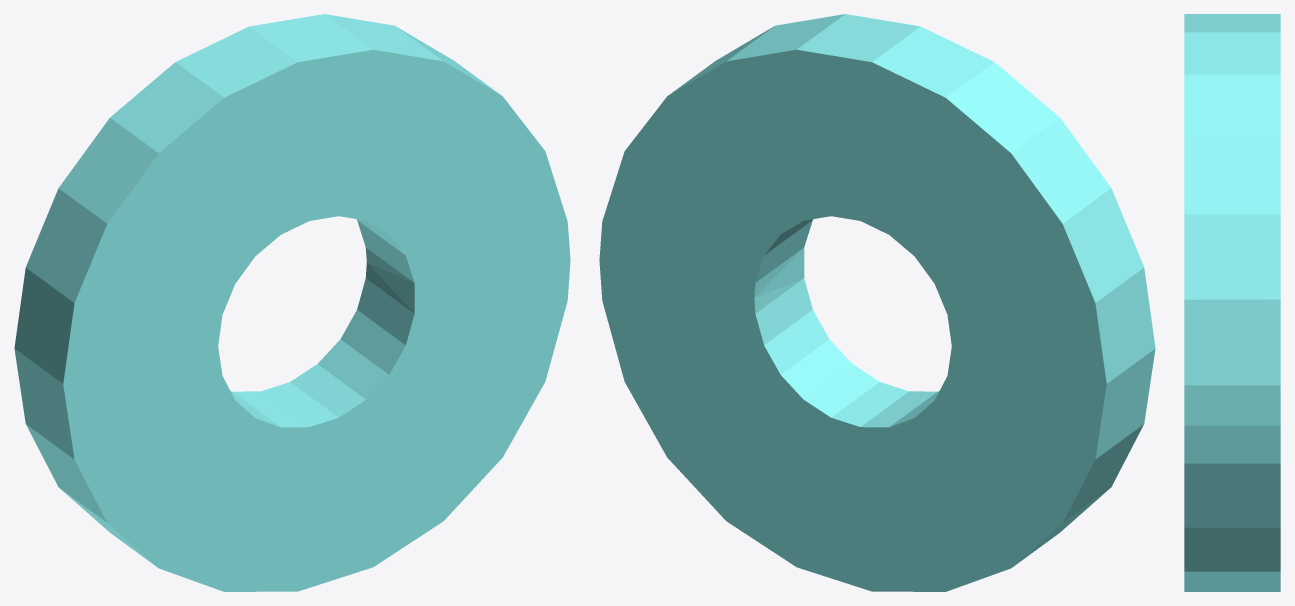
File: crank_washer.glb
3 renders of one model, left to right at view 1: azimuth 30°, elevation 25°; view 2: azimuth 150°, elevation 25°; view 3: azimuth 270°, elevation 25°, orthographic.
Visible parts, largest first — view 1: Node1; view 2: Node1; view 3: Node1.
Part boxes in pixels (x1=…): Node1: x1=14, y1=14, x2=570, y2=591; Node1: x1=599, y1=14, x2=1155, y2=591; Node1: x1=1184, y1=14, x2=1280, y2=591.
Bounding box in the file's own units: 4.76 × 4.75 × 0.7937.
